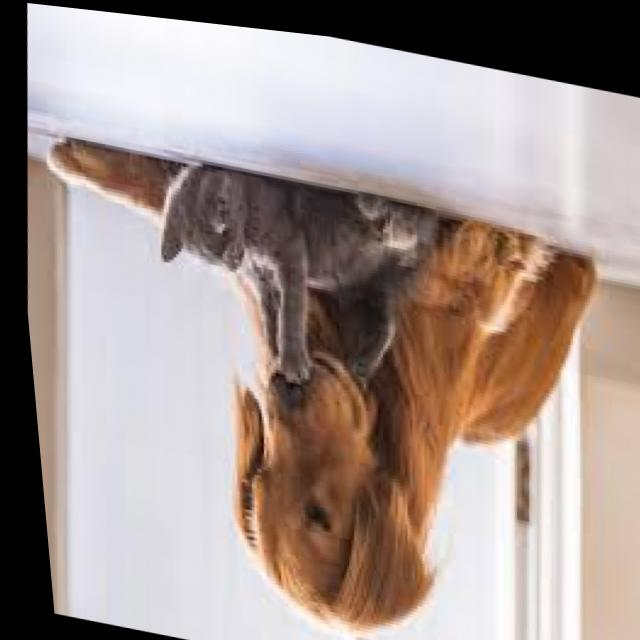Cat: (121, 141, 445, 317)
Dog: (190, 317, 557, 640)
